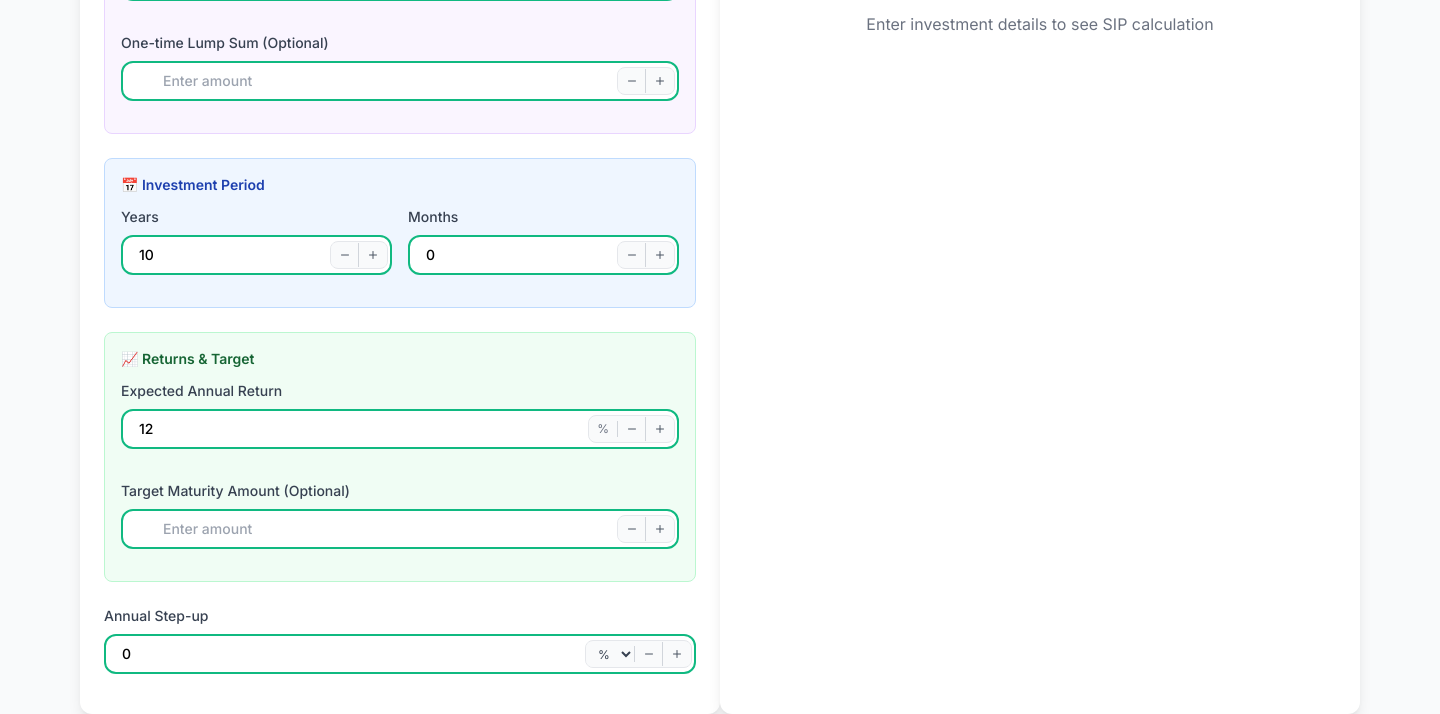
SIPCalculator - Comprehensive Test Suite › 🔄 Reset Functionality › should reset step-up percentage to default
(page scrolled)
Set step-up percentage
Replace the text in the field with placeholder "Enter step-up" below "Annual Step-up" with "10" at (400, 654), box [104,634,696,674]
(page scrolled)
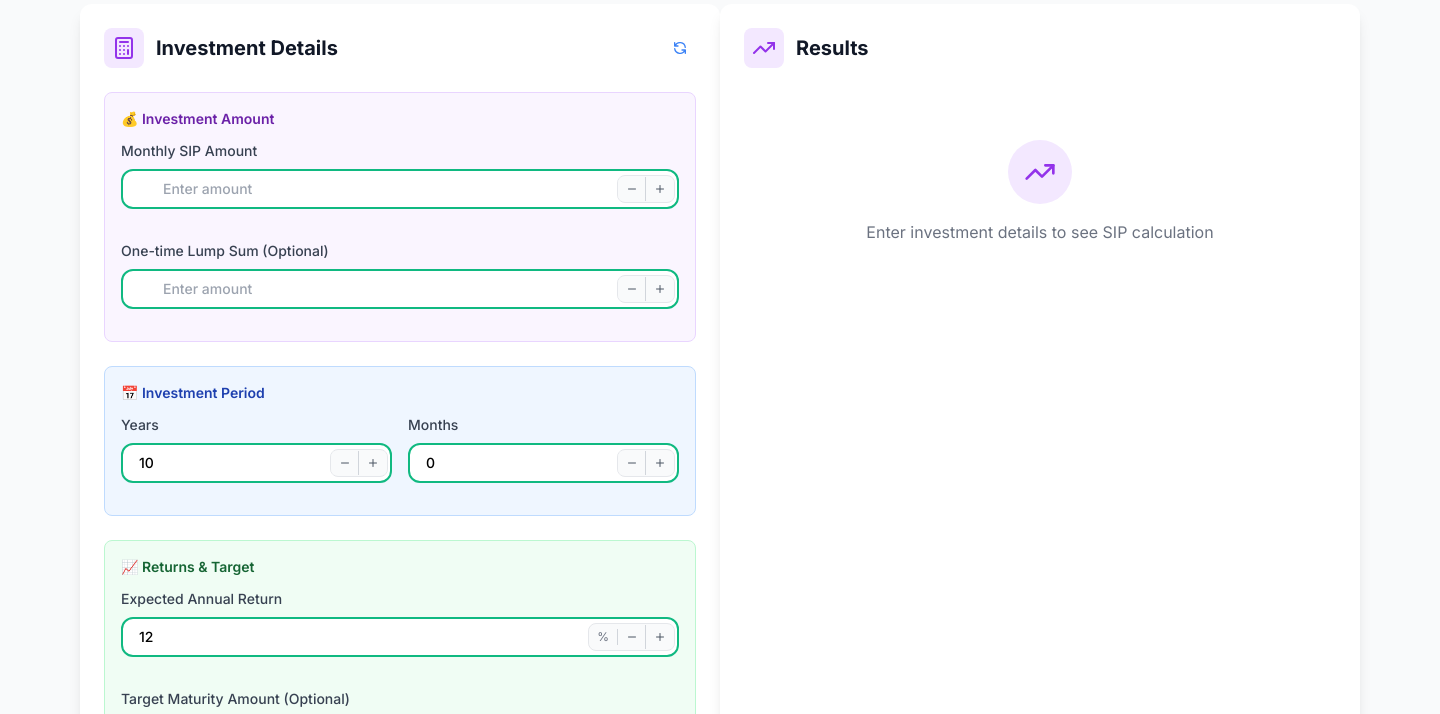
Click the button titled "reset calculator" at (680, 48), box [664,32,696,64]
(page scrolled)
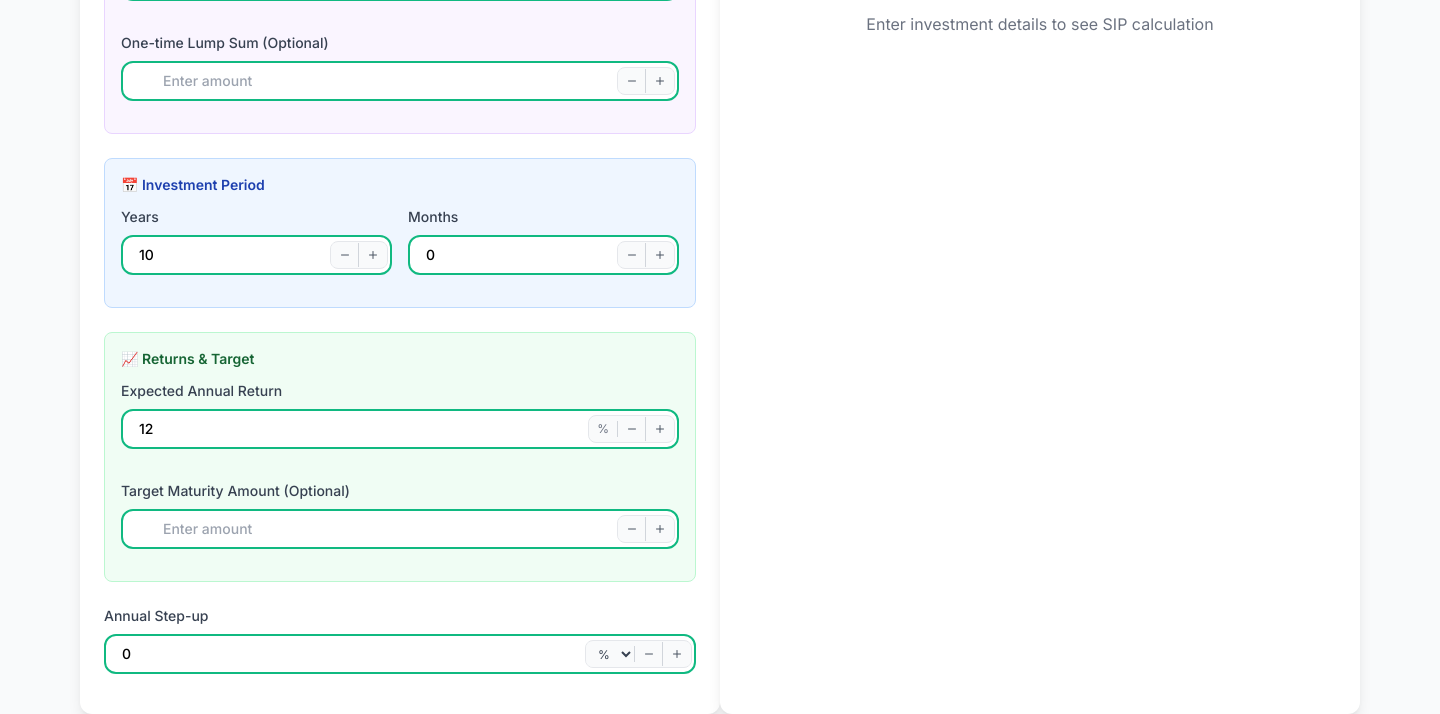
Result: the field with placeholder "Enter step-up" below "Annual Step-up" holds "0" at [104,634,696,674]
